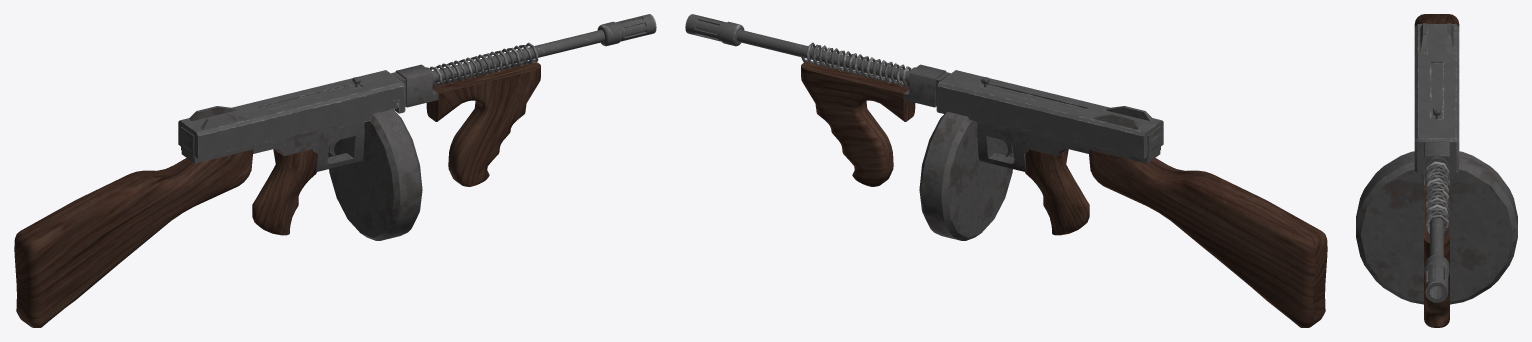
Rendered from tommy_gun.glb.
The picture shows the model from 3 angles, left to right: view 1: azimuth 30°, elevation 25°; view 2: azimuth 150°, elevation 25°; view 3: azimuth 270°, elevation 25°; orthographic projection. The views are drawn at different scales.
Parts seen in each view (by area): view 1: Cube.003; view 2: Cube.003; view 3: Cube.003.
Boxes of the visible parts, x1,y1,x2,y2 form: Cube.003: (14,14,656,327); Cube.003: (685,14,1327,327); Cube.003: (1356,14,1517,327).
Size of the model in its own units: 345 by 87.05 by 67.47.
1 material, 1 textured.
